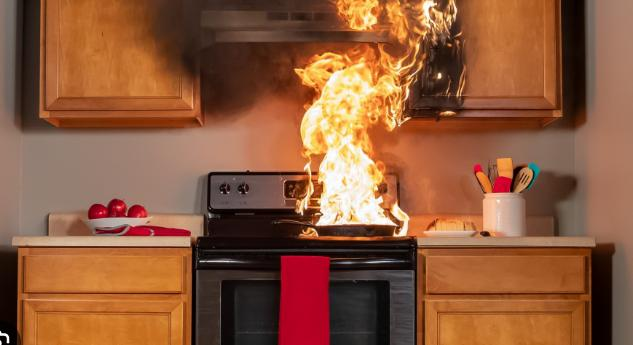fire: (264, 6, 434, 262)
